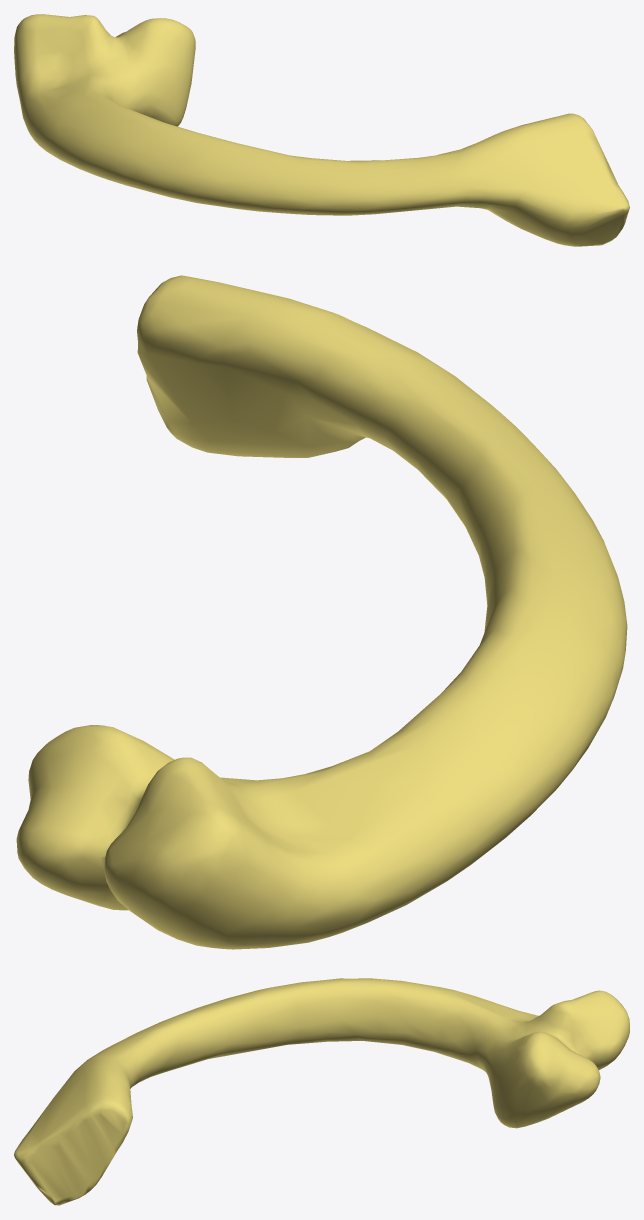
File: optic-tract-r.glb
The picture shows the model from 3 angles, top to bottom: view 1: azimuth 30°, elevation 25°; view 2: azimuth 150°, elevation 25°; view 3: azimuth 270°, elevation 25°; orthographic projection. The views are drawn at different scales.
Visible parts, largest first — view 1: Optic tract.r; view 2: Optic tract.r; view 3: Optic tract.r.
Boxes of the visible parts, x1,y1,x2,y2 form: Optic tract.r: [14, 14, 629, 246]; Optic tract.r: [16, 275, 627, 949]; Optic tract.r: [14, 978, 629, 1205].
Bounding box in the file's own units: 0.0241 × 0.00778 × 0.0367.
